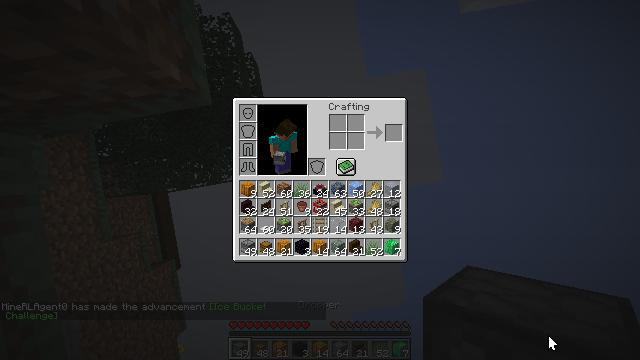cursor: (548, 335, 558, 351)
